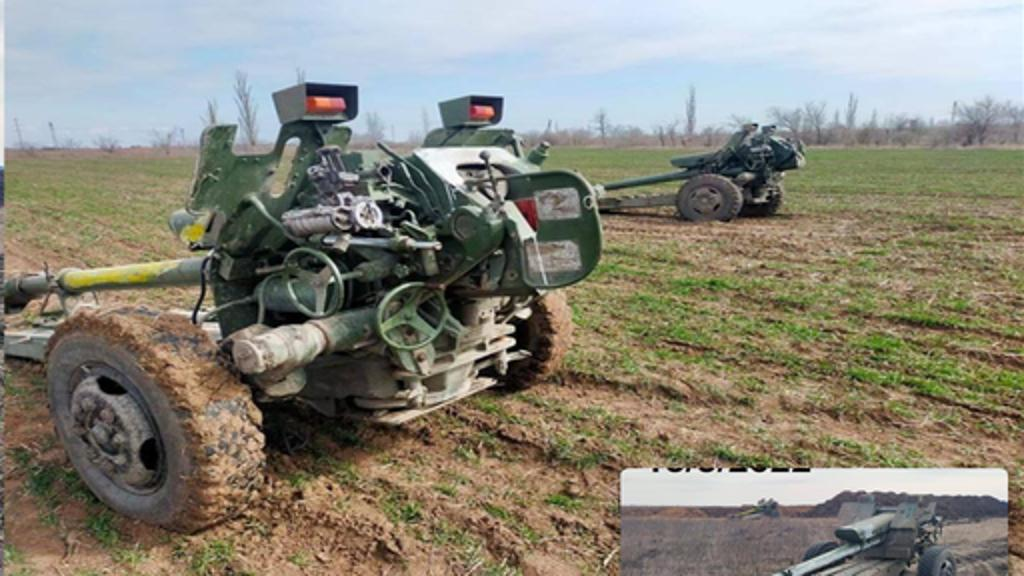ART: (4, 92, 598, 524), (554, 114, 808, 214), (778, 496, 954, 574), (724, 492, 780, 520)
